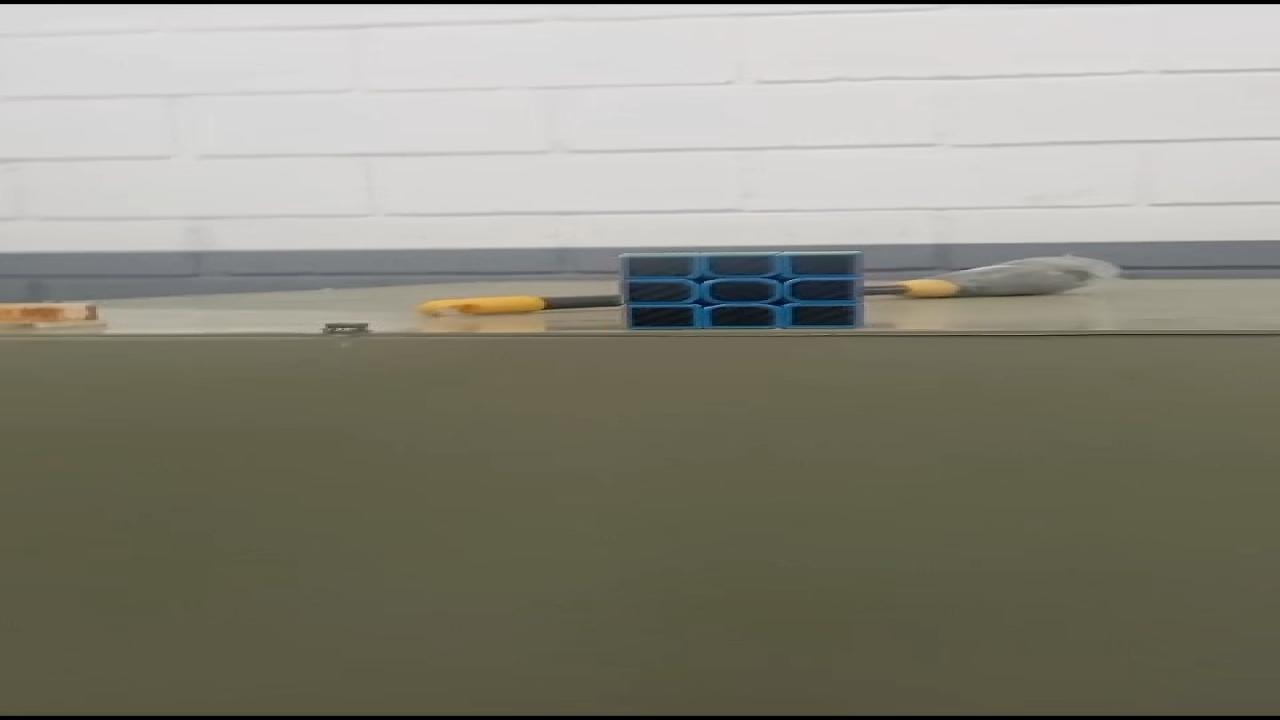Cube: (613, 249, 867, 330)
